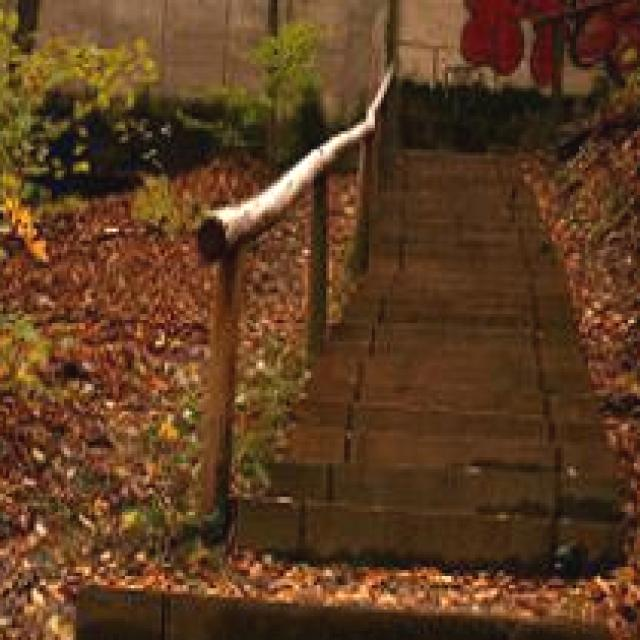upstair: (257, 287, 620, 568)
